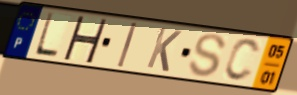C: (222, 37, 262, 84)
H: (61, 14, 109, 65)
I: (115, 21, 139, 70)
K: (144, 26, 183, 74)
L: (32, 11, 61, 60)
S: (186, 32, 228, 79)
